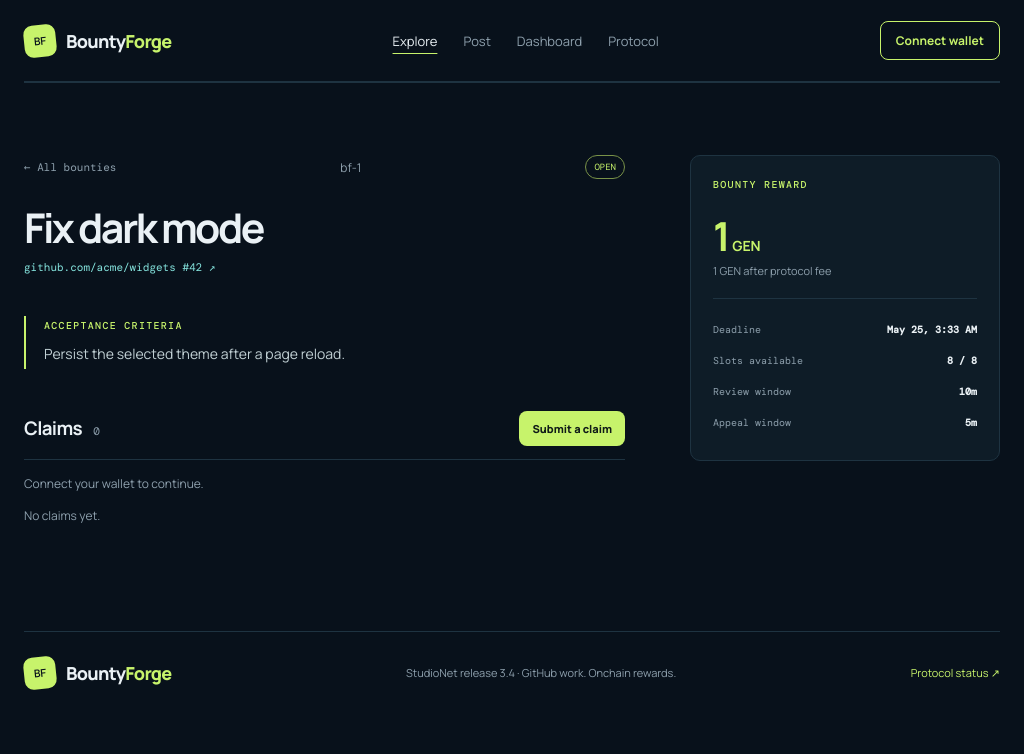
discovery and wallet state › uses configured windows instead of fixed 24-hour copy
Click the button "Connect wallet": (940, 40) [880,21,1000,60]
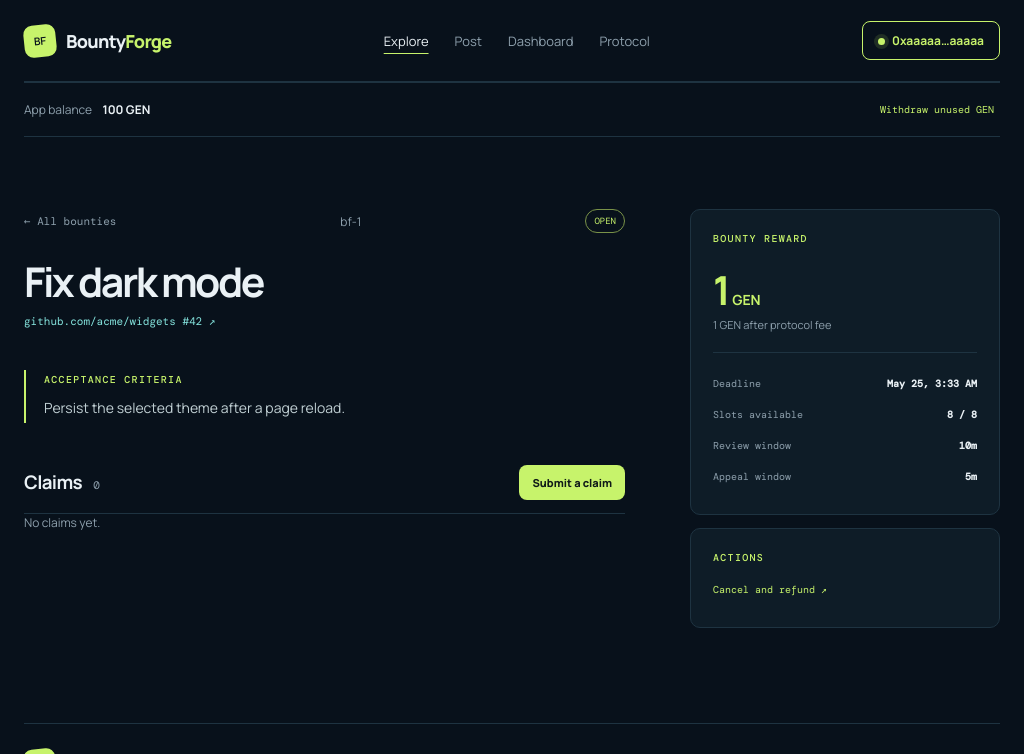
Expected: the text "5m" is shown, [965,469,977,484]
Expected: the button with aria-label "Disconnect wallet" is shown, [862,21,1000,60]
